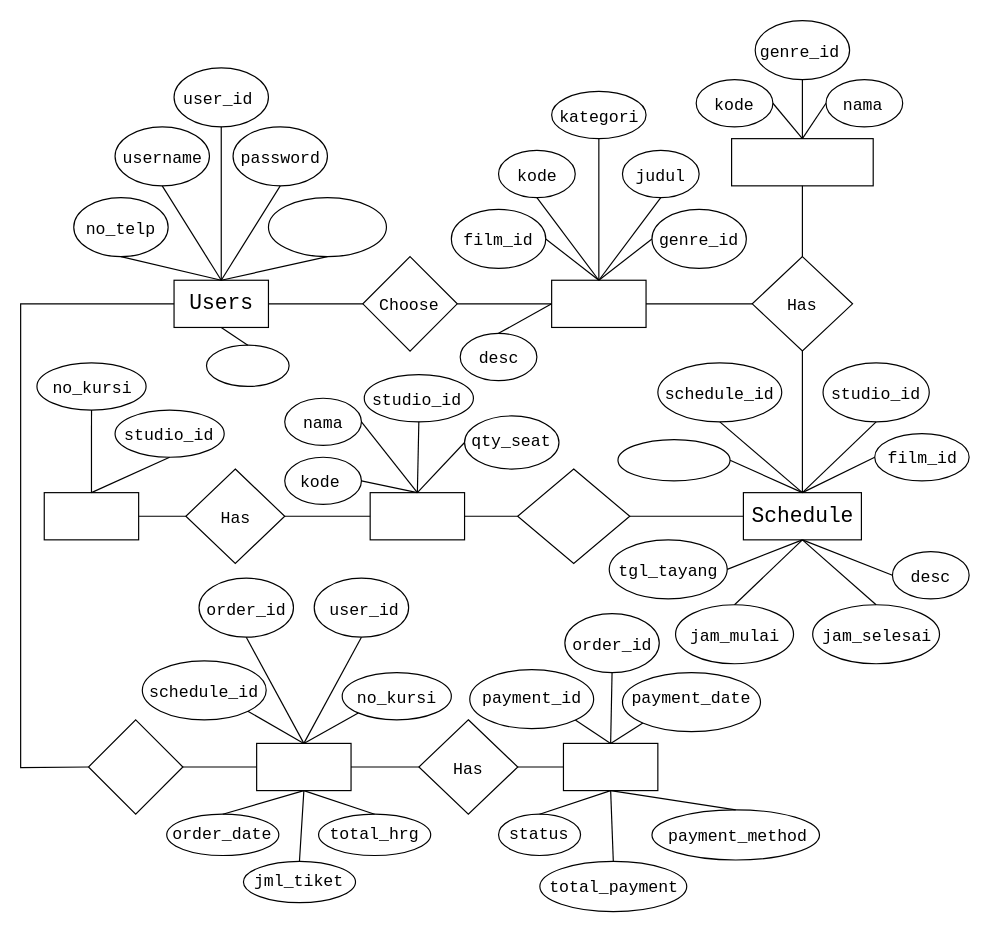
This 990x936 diagram has some shape labels left out. The shapes that lost their labels are listed below. From the top down, each one's box as (x1, y1, x2, y2) in pixels, then its label:
(730, 137, 873, 186): Genre Film
(267, 196, 386, 257): level_user
(550, 279, 646, 327): Films
(205, 344, 289, 386): email
(617, 438, 730, 481): hrg_tiket
(43, 491, 139, 540): Seats
(369, 491, 465, 540): Studio
(516, 468, 630, 563): Contain
(87, 719, 183, 814): Doing
(255, 742, 351, 791): Order
(562, 742, 658, 791): Payment
